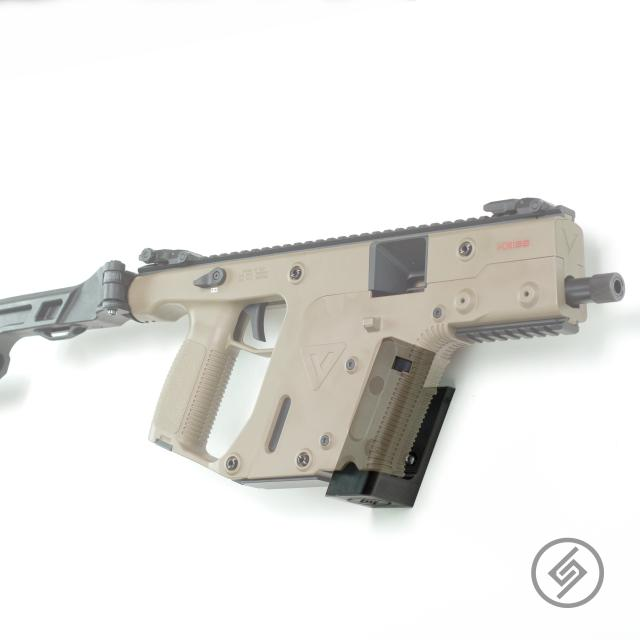SMG: (0, 199, 627, 510)
